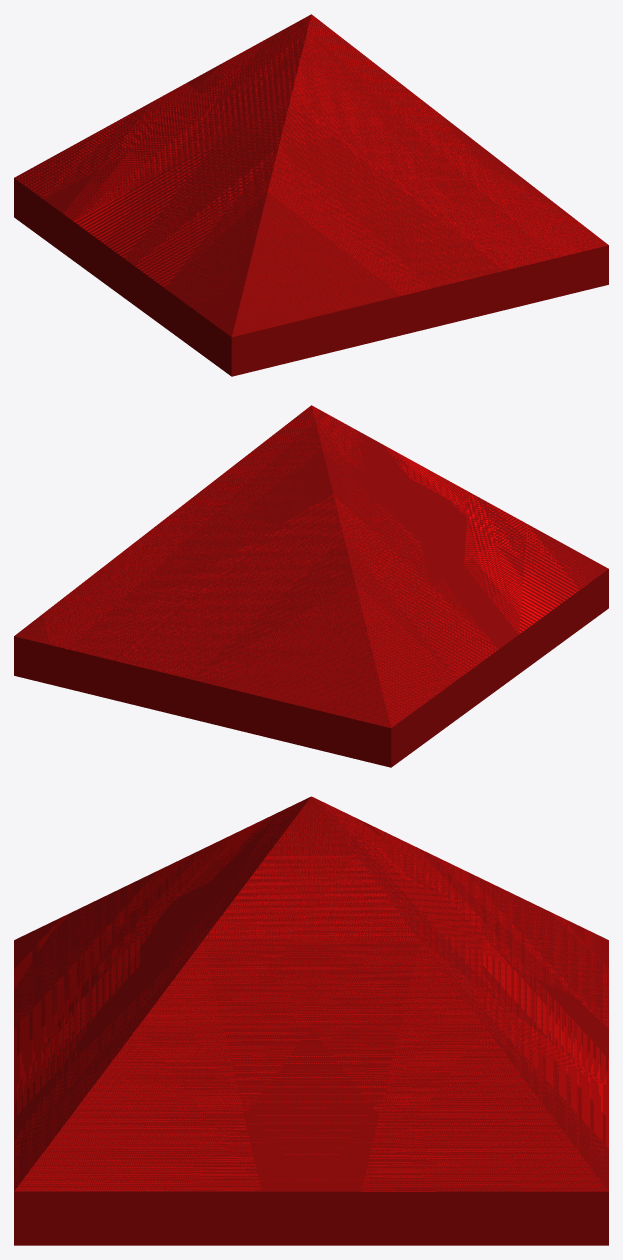
Rendered from roof_hip_point.fbx.
3 views of the same model, one above another, from view 1: azimuth 30°, elevation 25°; view 2: azimuth 150°, elevation 25°; view 3: azimuth 270°, elevation 25° (orthographic). The views are drawn at different scales.
Parts seen in each view (by area): view 1: Mesh1_peak1 Model; view 2: Mesh1_peak1 Model; view 3: Mesh1_peak1 Model.
Part boxes in pixels (left/top/right/bottom): Mesh1_peak1 Model: left=14, top=14, right=608, bottom=376; Mesh1_peak1 Model: left=14, top=405, right=608, bottom=767; Mesh1_peak1 Model: left=14, top=796, right=608, bottom=1245.
Size of the model in its own units: 1 by 0.6 by 1.
